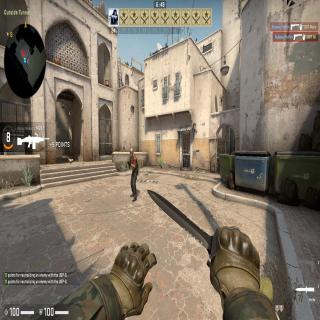T-Body: (127, 147, 139, 202)
T-Head: (130, 148, 134, 157)
